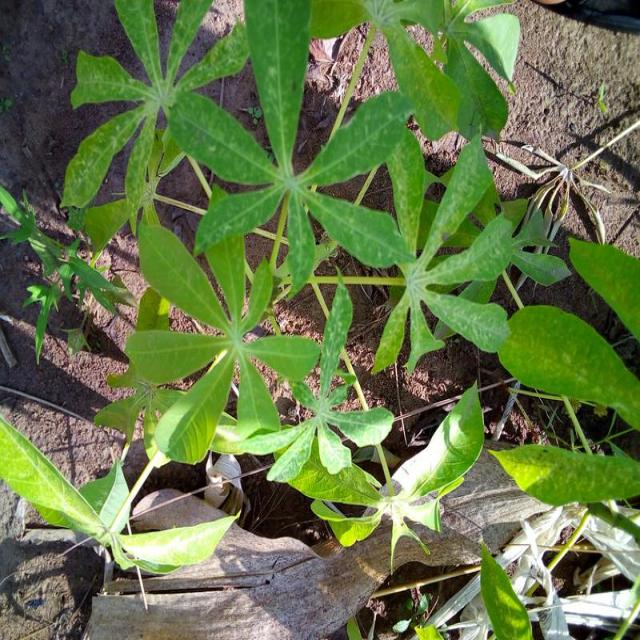cassava leaf: (496, 303, 638, 431)
